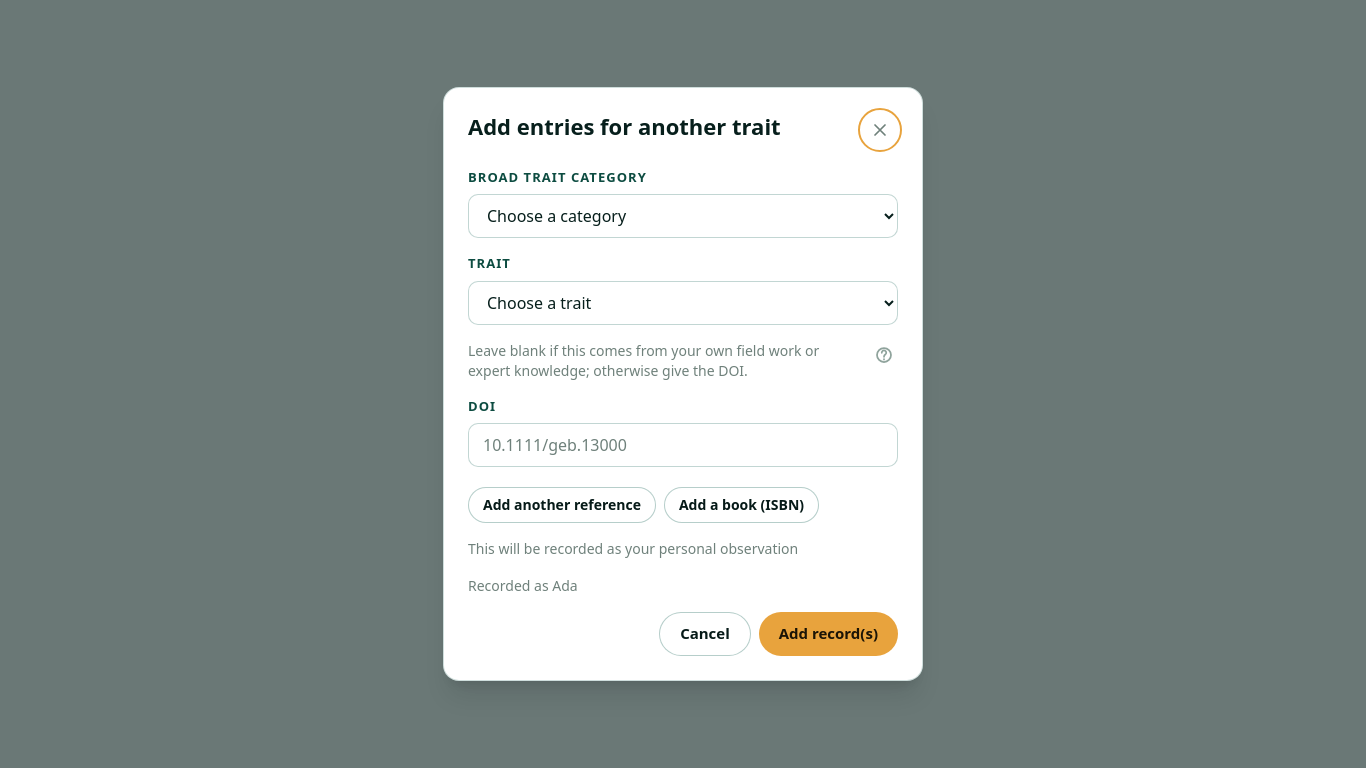
it: RFC-70 R1 AddEntriesDialog trait choice › clears the trait and the value when the category changes
Select "Seed" in the dropdown labelled "Broad trait category" at (683, 216), box [468,194,898,238]
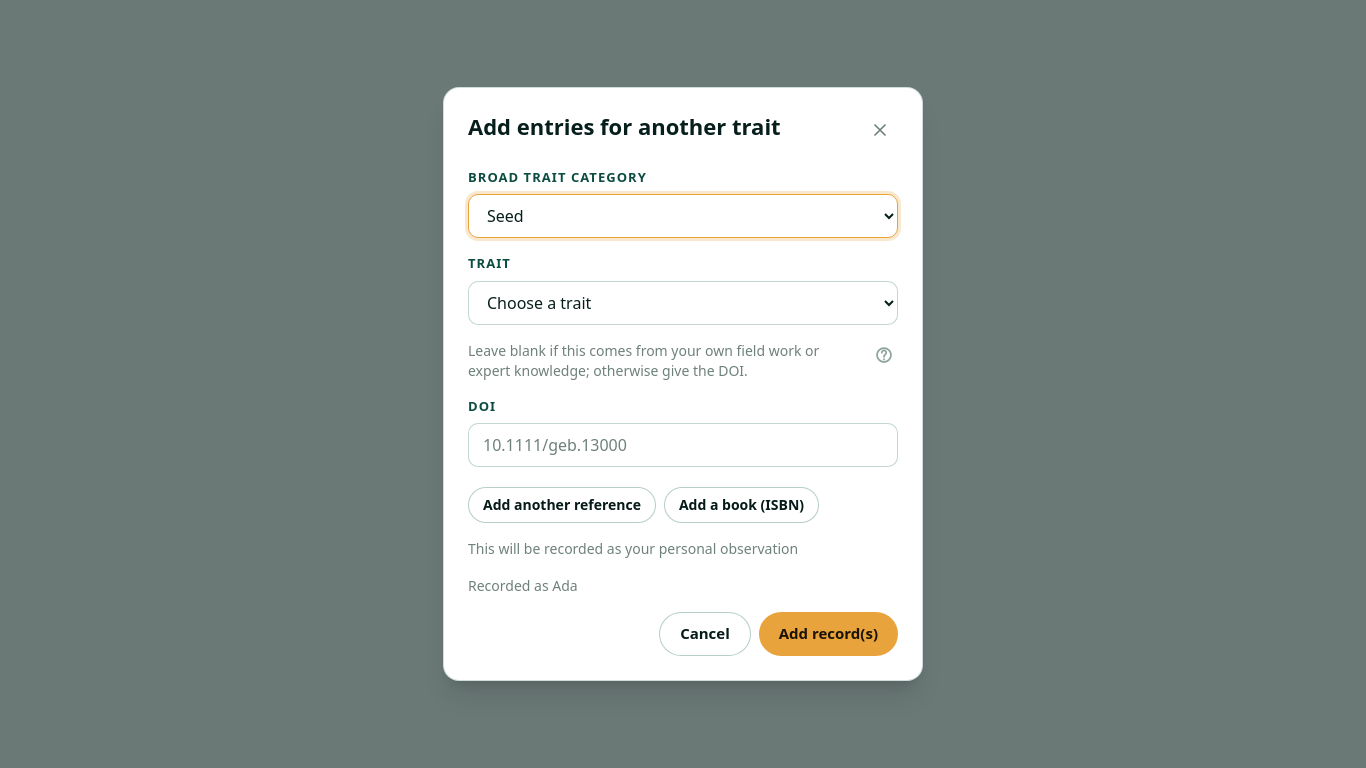
Select "seed mass (mg)" in the dropdown labelled "Trait" at (683, 302), box [468,280,898,324]
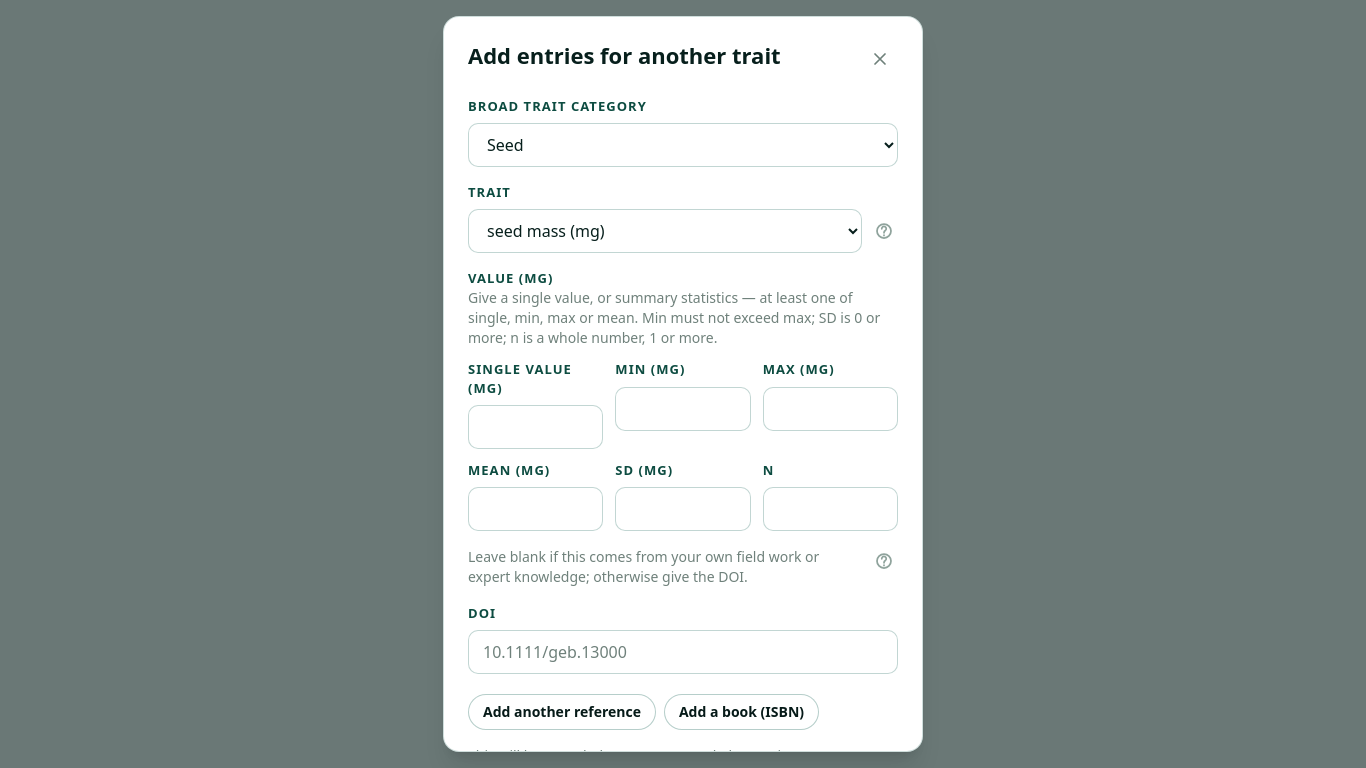
Now the number field labelled "Single value (mg)" is enabled
Type "12.5" into the number field labelled "Single value (mg)" at (536, 427), box [468,405,603,449]
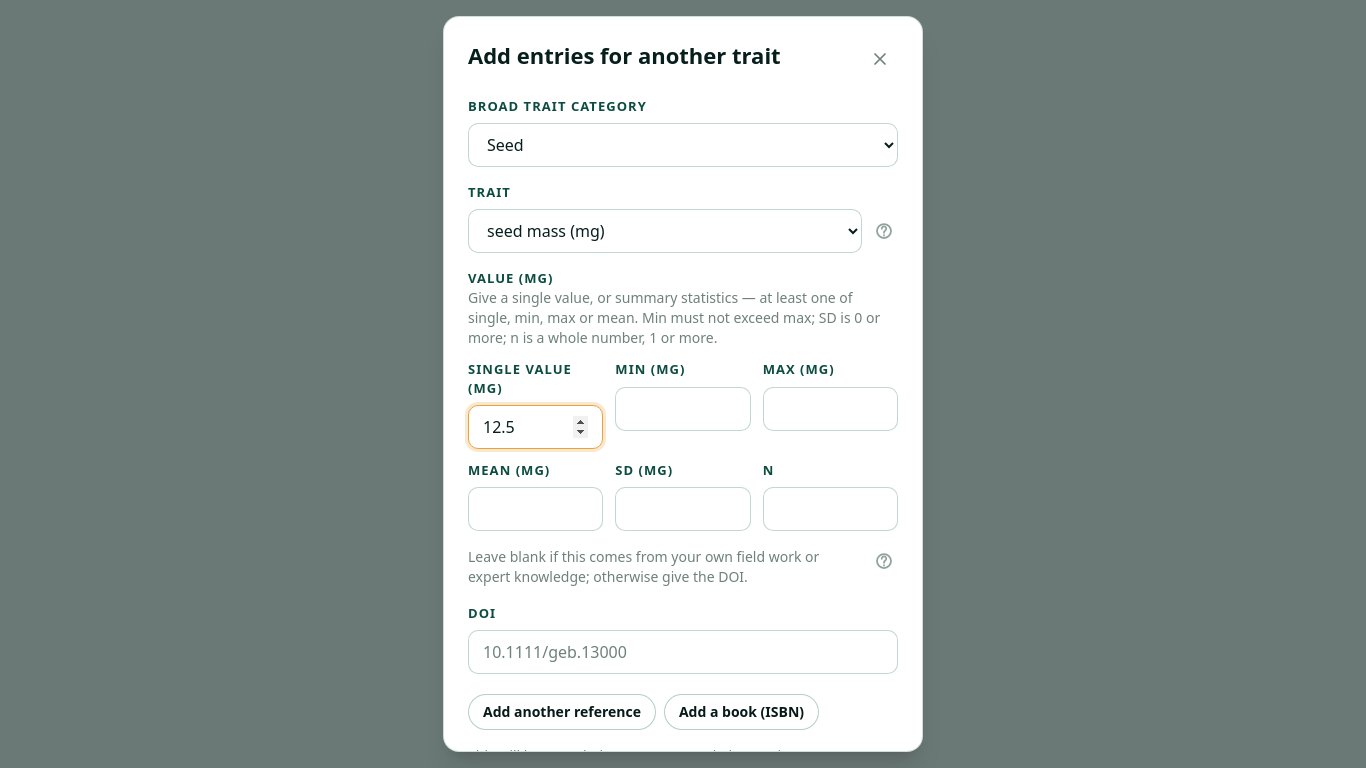
Select "Reproductive system" in the dropdown labelled "Broad trait category" at (683, 145), box [468,123,898,167]
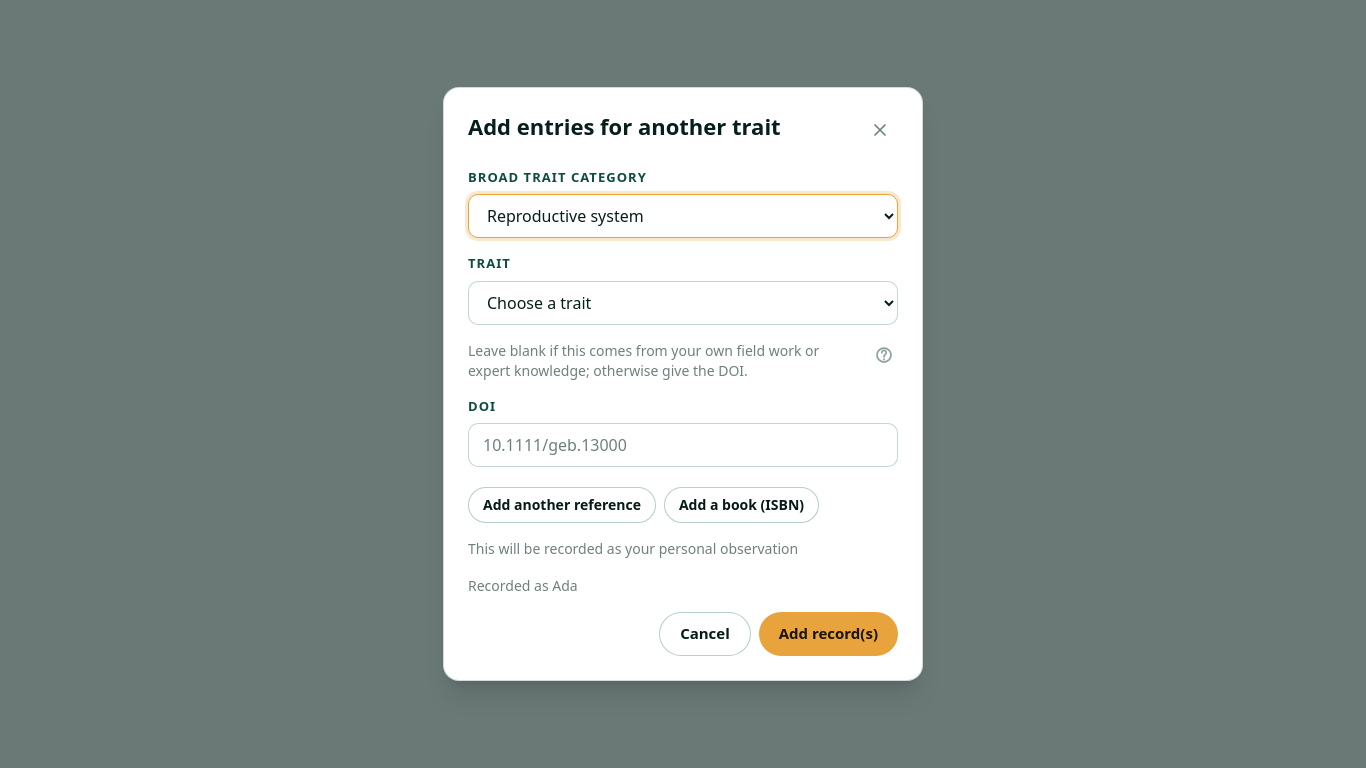
Now the dropdown labelled "Trait" shows "Choose a trait", box [468,280,898,324]
Select "Seed" in the dropdown labelled "Broad trait category" at (683, 216), box [468,194,898,238]
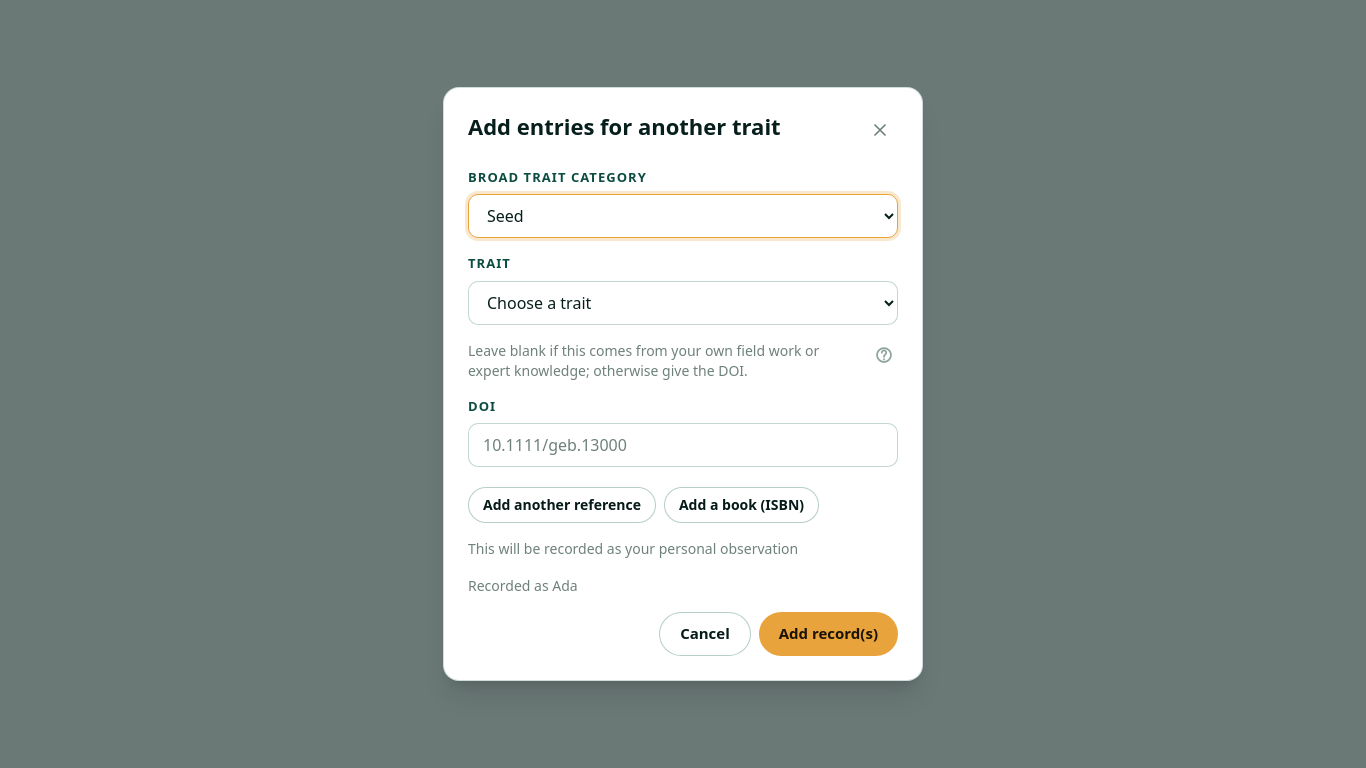
Select "seed mass (mg)" in the dropdown labelled "Trait" at (683, 302), box [468,280,898,324]
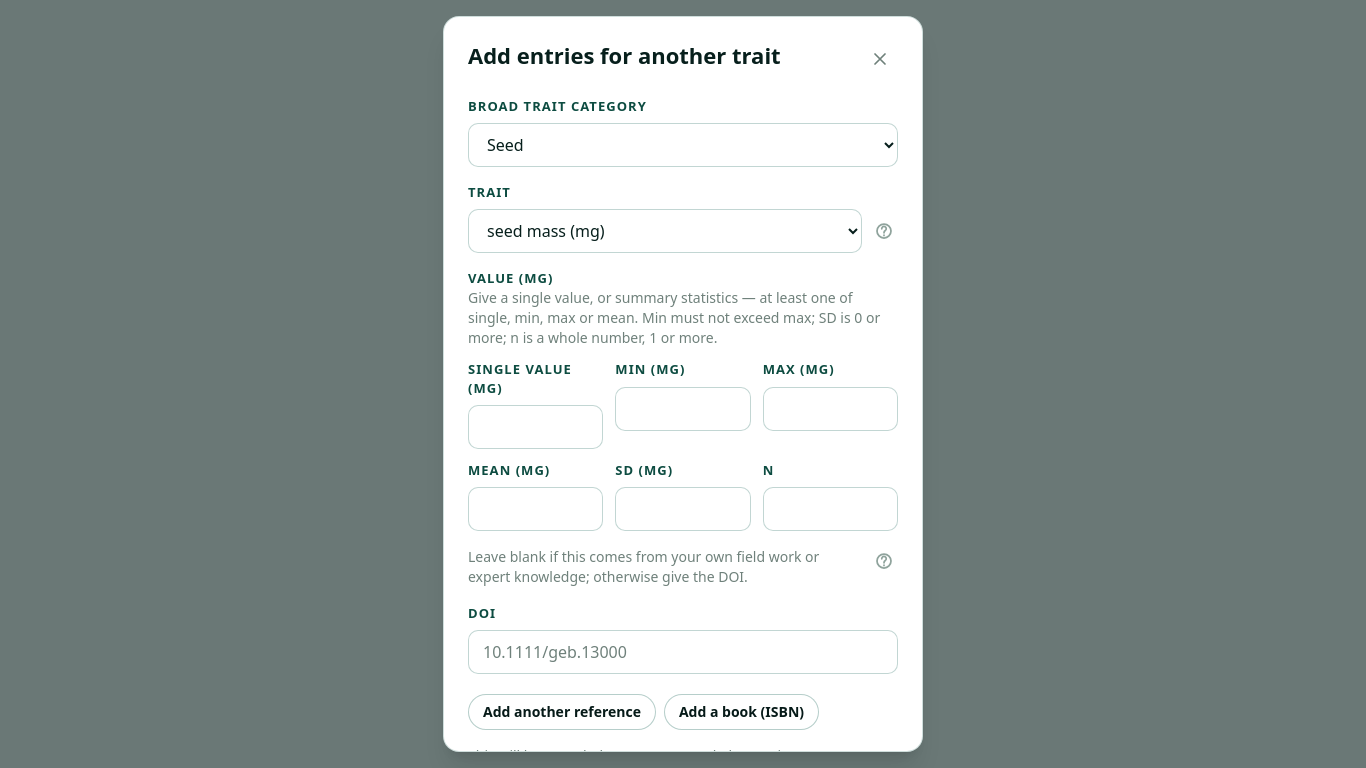
Now the number field labelled "Single value (mg)" is not empty, box [468,405,603,449]
